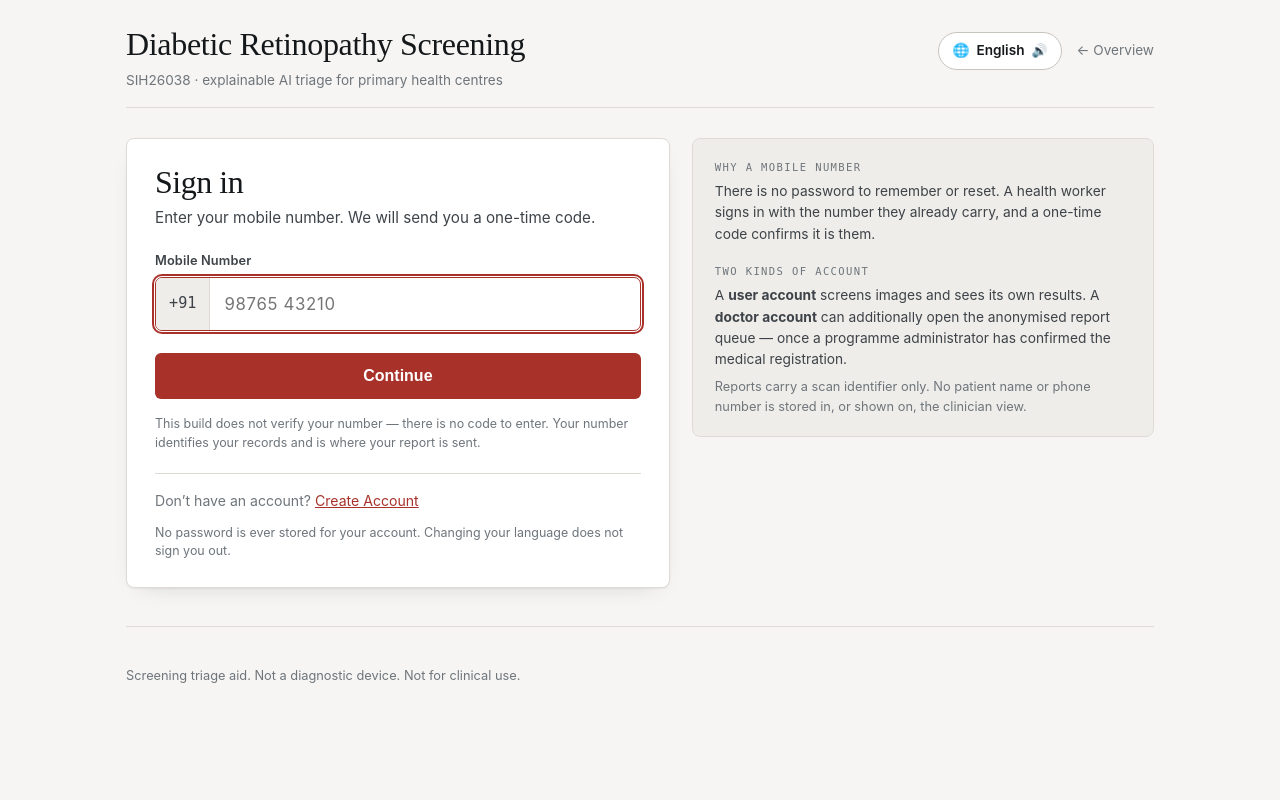
Test: error states › surfaces a suspended account rather than signing in
In the field with placeholder "98765 43210": [425, 304] box [210,278,640,330], type "9876543210"
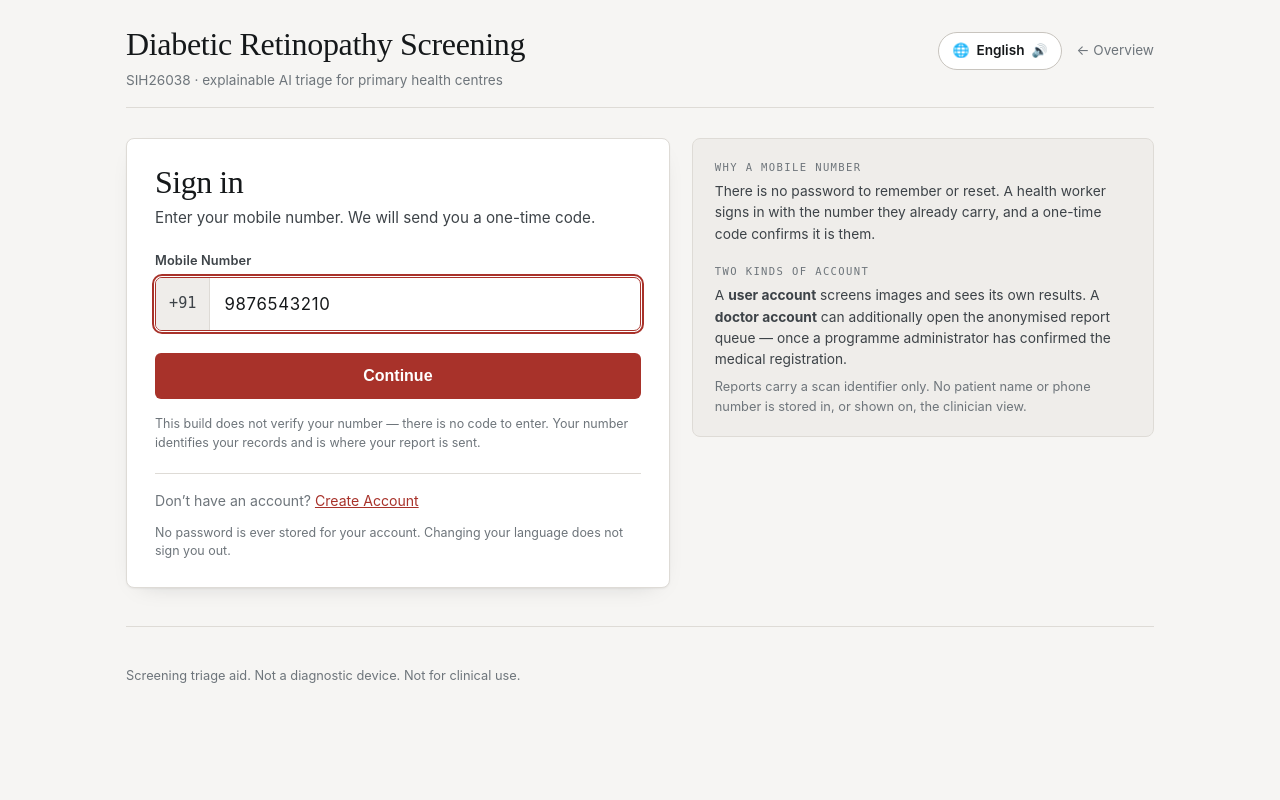
Click the button "Continue": [398, 376] box [155,353,641,399]
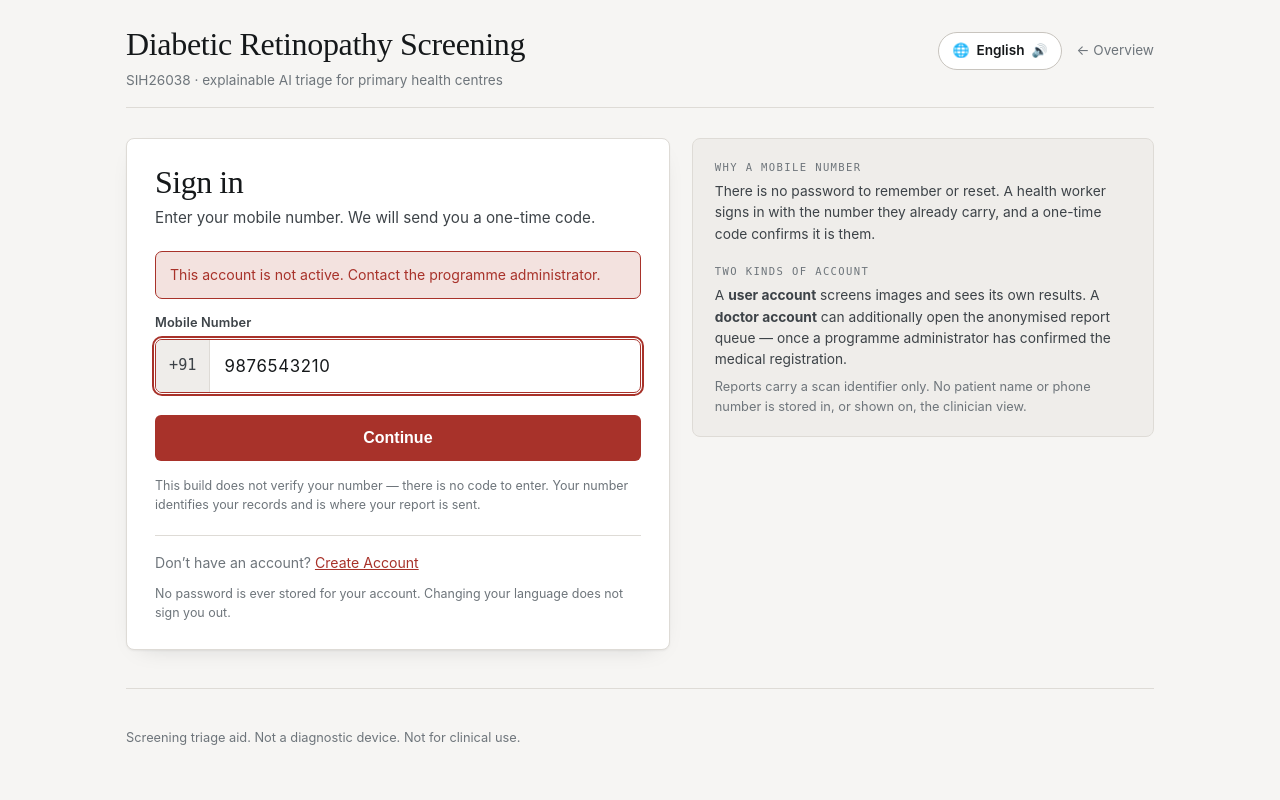
Expected: the text "not active" is shown, [170,266,600,283]
